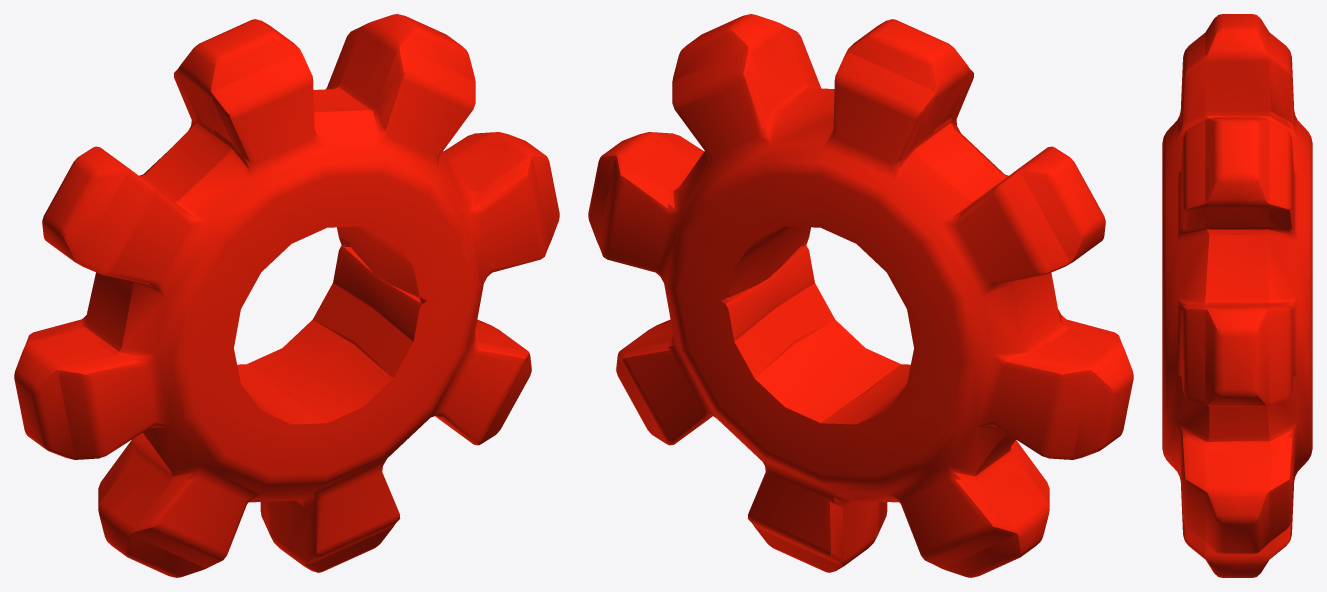
File: gear.glb
3 views of the same model, side by side, from view 1: azimuth 30°, elevation 25°; view 2: azimuth 150°, elevation 25°; view 3: azimuth 270°, elevation 25° (orthographic). The views are drawn at different scales.
Visible parts, largest first — view 1: Cylinder.001; view 2: Cylinder.001; view 3: Cylinder.001.
Part boxes in pixels (x1,y1,x2,y2): Cylinder.001: (14,14,559,577); Cylinder.001: (588,14,1133,577); Cylinder.001: (1162,14,1312,577).
Size of the model in its own units: 0.1699 by 0.1699 by 0.045.
